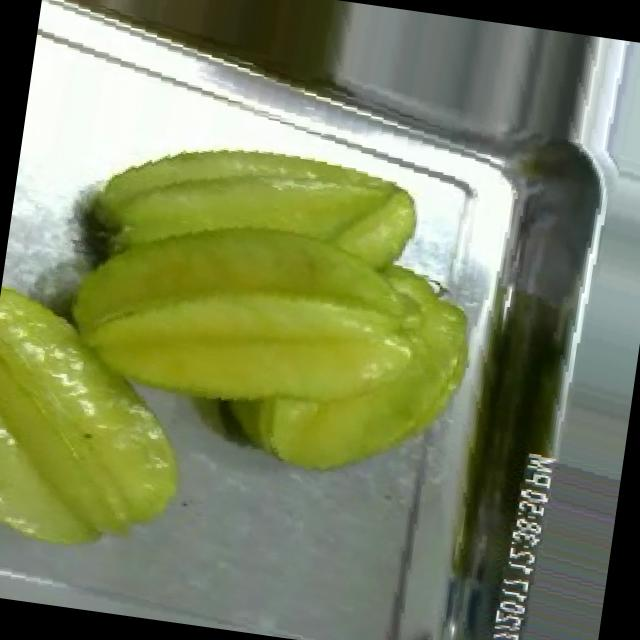fruit: (88, 90, 520, 512), (0, 253, 223, 581), (36, 0, 311, 76)
